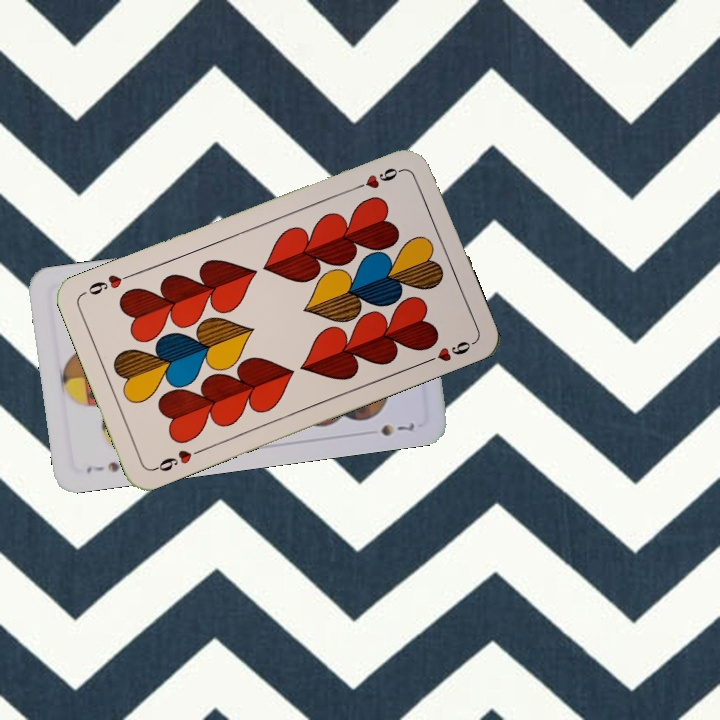H9: (149, 445, 206, 475), (350, 163, 407, 193)
S7: (82, 457, 123, 476)
